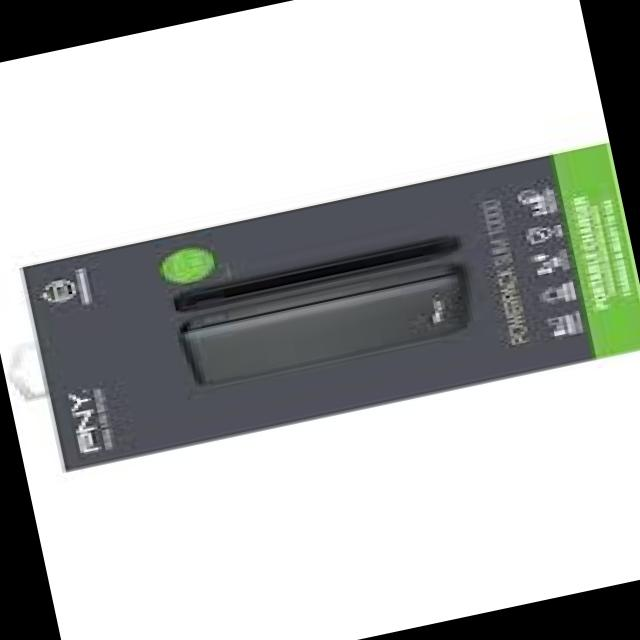portable-charger: (162, 247, 492, 401)
